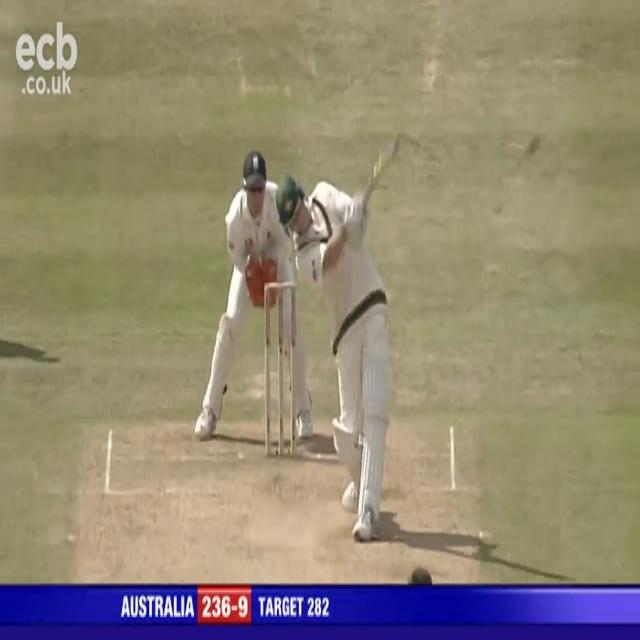ball: (520, 130, 550, 164)
